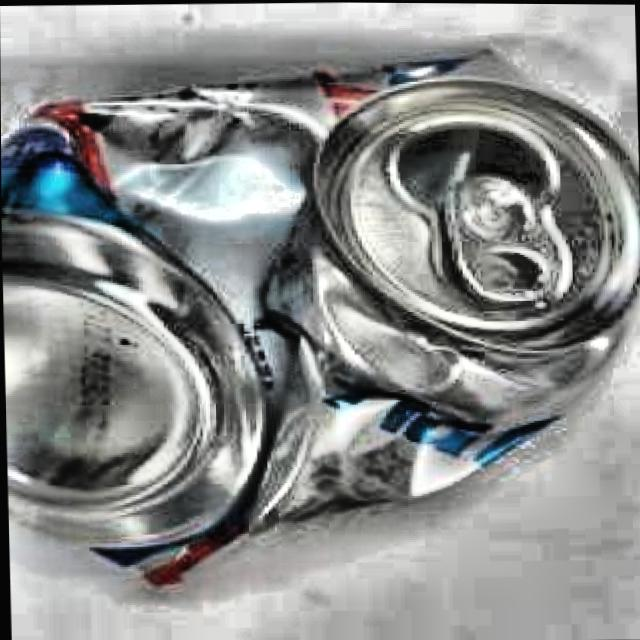metal: (0, 34, 640, 595)
